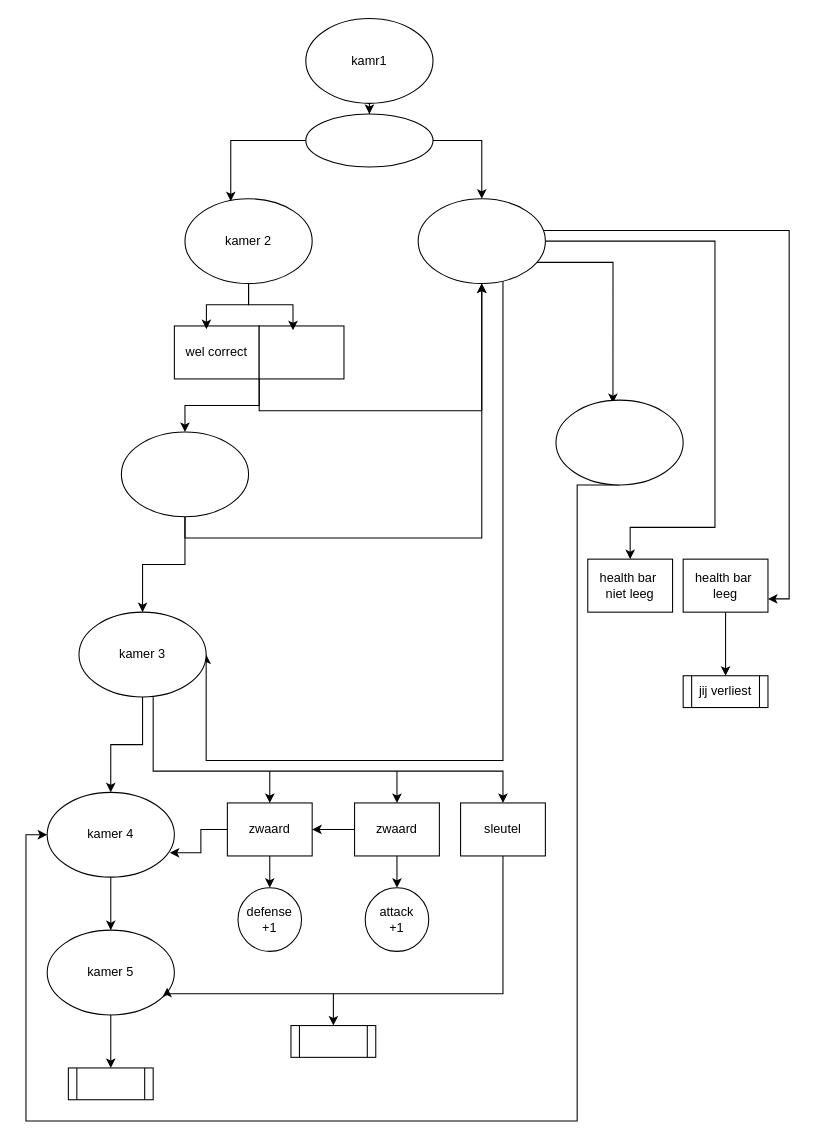
Image size: 816x1148. Some labels were removed from this diagram. Here are the shapes that lost their labels. From the top down, the centre of each, then its label:
(x=369, y=140): kamer 7
(x=481, y=241): kamer 8
(x=301, y=352): niet correct
(x=619, y=442): kamer 9
(x=184, y=474): kamer 6
(x=333, y=1040): Jij wint
(x=110, y=1083): je verliest
